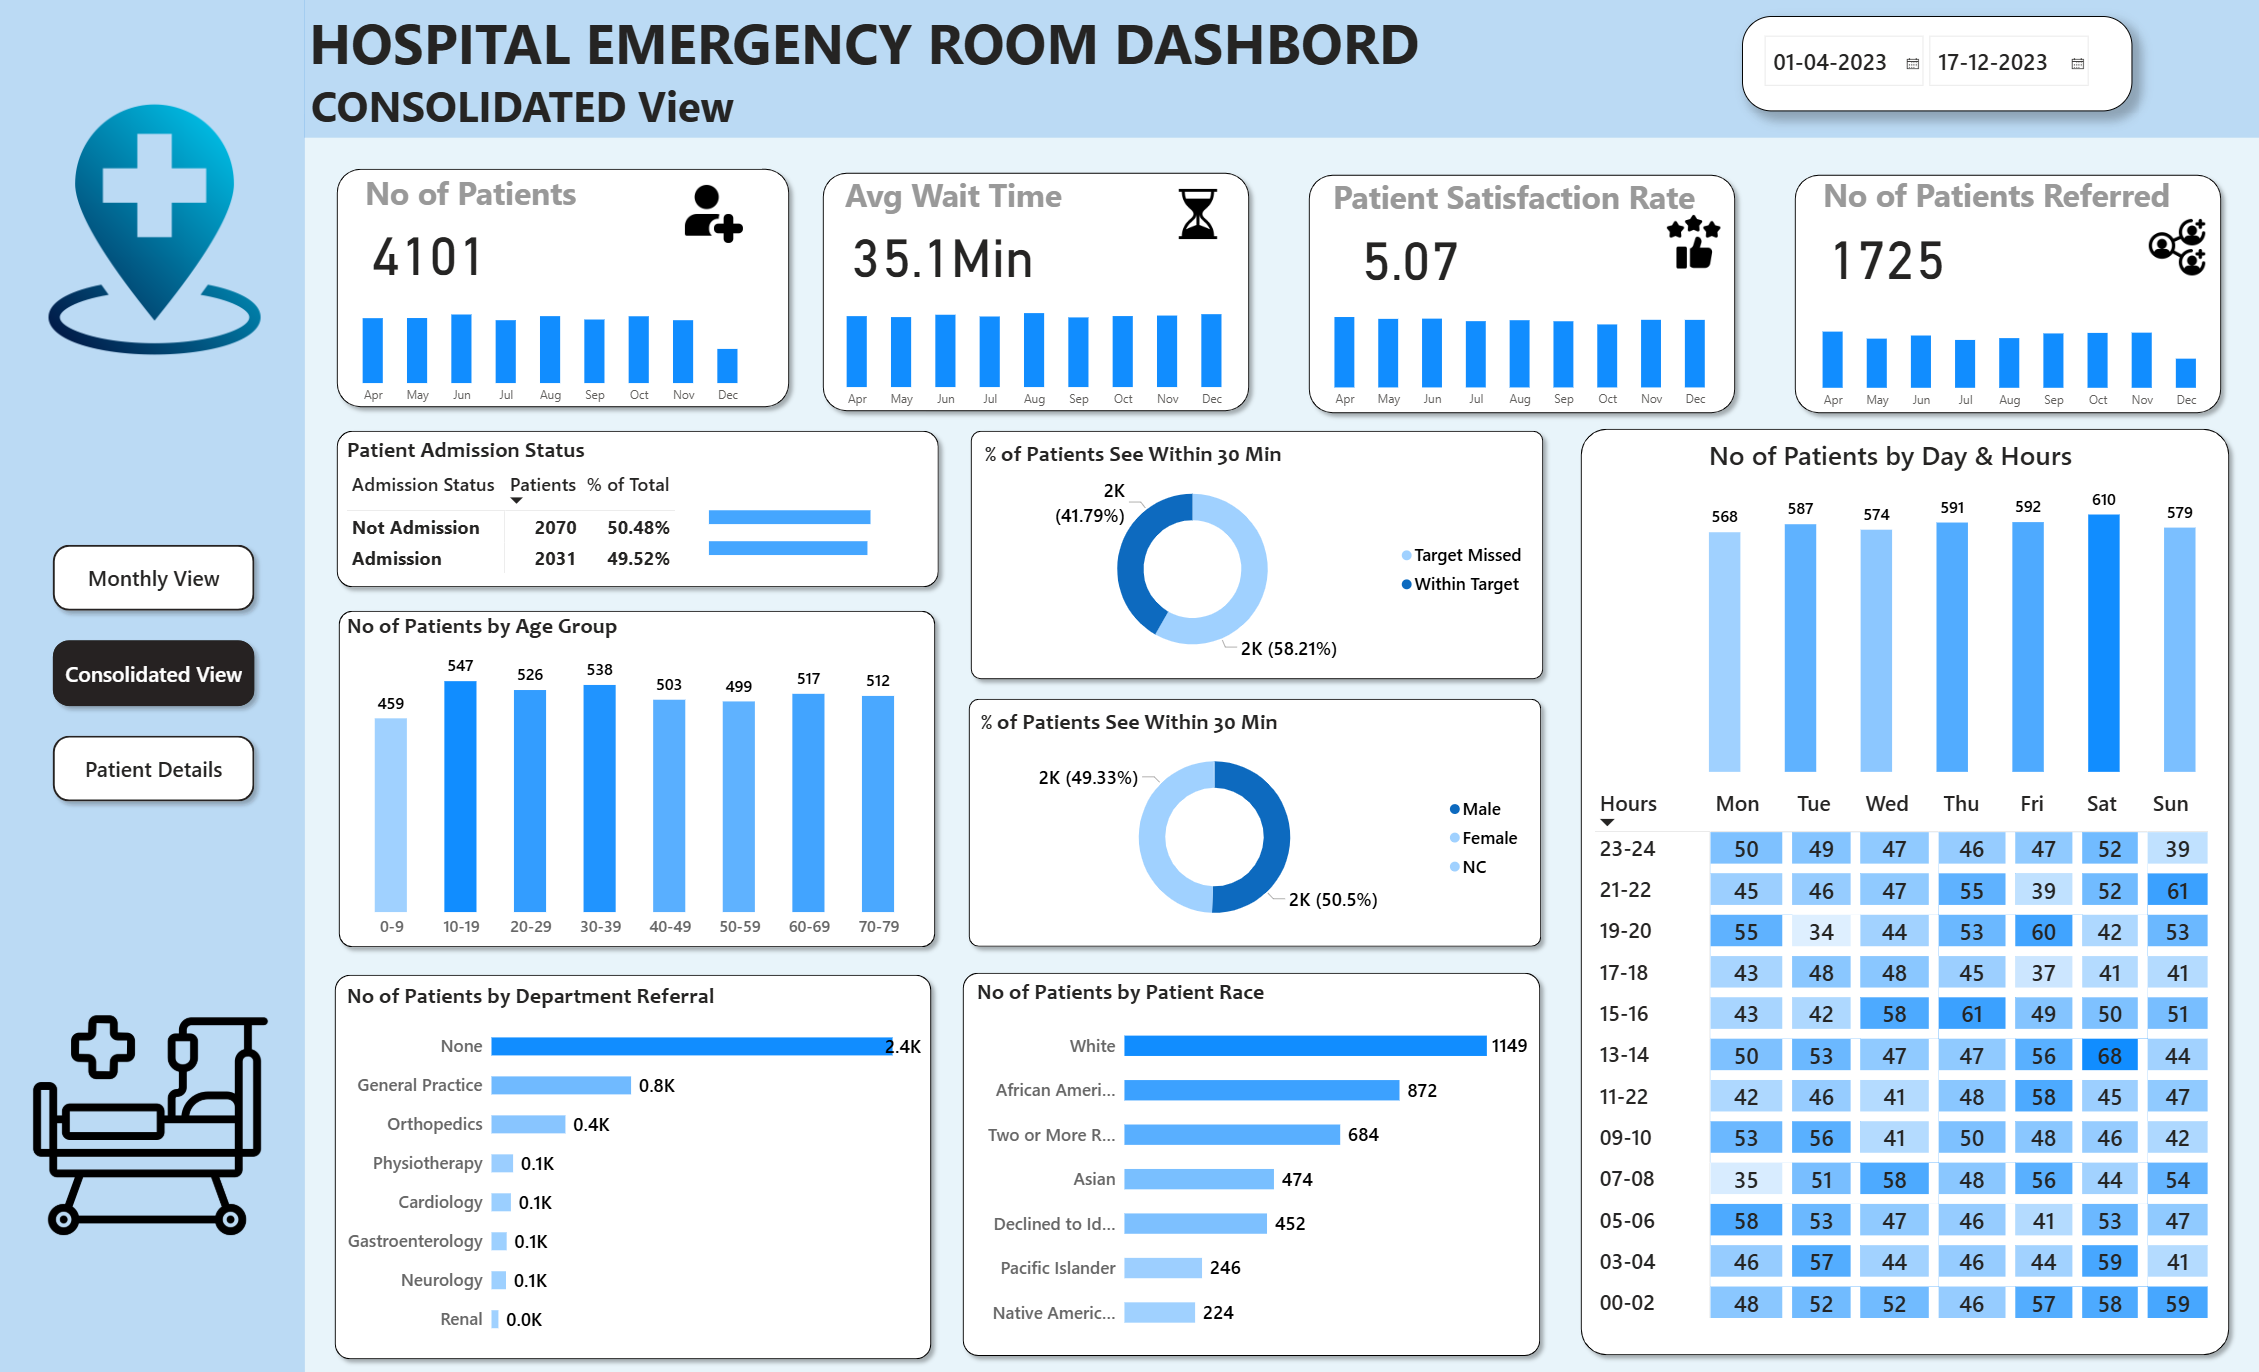

The page's visual inventory and layout, read from the dashboard file:
{"tool":"powerbi","page":{"name":"Consolidated View","canvas":[2300,1400],"ordinal":1},"visuals":[{"type":"shape","box":[0,0,310,1400],"z":0},{"type":"shape","box":[309.1,0,1992.9,140],"z":1000},{"type":"textbox","box":[309.9,0,1990.1,92],"z":2000},{"type":"textbox","box":[311.1,73.2,463.7,81.3],"z":3000},{"type":"slicer","fields":{"Values":["Date.Date"]},"box":[1772.2,16.9,397.1,96.8],"z":4000},{"type":"shape","box":[1816.7,168.5,451.5,260.3],"z":5000},{"type":"textbox","box":[1847.9,170.9,373.3,63.1],"z":6000},{"type":"card","fields":{"Values":["Hospital ER_Data.No of Patients Refsrred"]},"box":[1830.3,217.9,176.7,79.9],"z":7000},{"type":"columnChart","fields":{"Y":["Hospital ER_Data.No of Patients Refsrred"],"Category":["Date.Month Name"]},"box":[1830,300,426.7,123.3],"z":9000},{"type":"shape","box":[1321.6,169.7,451.5,260.3],"z":11000},{"type":"textbox","box":[1350.9,171.9,421.3,82.3],"z":12000},{"type":"card","fields":{"Values":["Hospital ER_Data.Satisfaction Score"]},"box":[1335.3,218.2,194.5,81.5],"z":13000},{"type":"columnChart","fields":{"Y":["Hospital ER_Data.Satisfaction Score"],"Category":["Date.Month Name"]},"box":[1335,298.3,423.3,125],"z":14000},{"type":"shape","box":[827.7,166,451.5,260.3],"z":15000},{"type":"shape","box":[333.8,428.5,630,177],"z":16000},{"type":"textbox","box":[853.3,170,285,65],"z":17000},{"type":"card","fields":{"Values":["Hospital ER_Data.Avg Wait Time"]},"box":[841.1,215.5,233.6,80.5],"z":18000},{"type":"columnChart","fields":{"Y":["Avg(Hospital ER_Data.Patient Waittime)"],"Category":["Date.Month Name"]},"box":[838.3,296.7,428.3,126.7],"z":19000},{"type":"pivotTable","title":"Patient Admission Status","fields":{"Rows":["Hospital ER_Data.Admission Status"],"Values":["Hospital ER_Data.No of Patients1","Divide(Hospital ER_Data.No of Patients, ScopedEval(Hospital ER_Data.No of Patients, []))"]},"box":[348.6,443.1,593.2,145.3],"z":20000},{"type":"barChart","fields":{"Category":["Hospital ER_Data.Admission Status"],"Y":["Hospital ER_Data.No of Patients"]},"box":[715.8,490.1,248.1,97.6],"z":21000},{"type":"shape","box":[333.5,162.7,477.9,260.3],"z":22000},{"type":"textbox","box":[366,168.7,285.6,64.9],"z":23000},{"type":"card","fields":{"Values":["Hospital ER_Data.No of Patients"]},"box":[347.4,213.1,176.7,79.9],"z":24000},{"type":"columnChart","fields":{"Y":["Hospital ER_Data.No of Patients"],"Category":["Date.Month Name"]},"box":[345,293.3,428.3,126.7],"z":25000},{"type":"shape","box":[336.6,612.1,624.3,360],"z":26000},{"type":"clusteredColumnChart","fields":{"Category":["Hospital ER_Data.Age Group"],"Y":["Hospital ER_Data.No of Patients"]},"box":[348.6,623.2,596.7,341.1],"z":27000},{"type":"shape","box":[332.2,982.2,624.4,408.9],"z":28000},{"type":"clusteredBarChart","fields":{"Category":["Hospital ER_Data.Department Referral"],"Y":["Hospital ER_Data.No of Patients"]},"box":[348,998,594,374],"z":29000},{"type":"shape","box":[978.2,429.1,599.9,270.5],"z":30000},{"type":"donutChart","title":"% of Patients See Within 30 Min","fields":{"Category":["Hospital ER_Data.Waittime Status"],"Y":["Hospital ER_Data.No of Patients"]},"box":[996.7,448.3,565,235],"z":31000},{"type":"shape","box":[975.8,701.7,600,270],"z":32000},{"type":"donutChart","title":"% of Patients See Within 30 Min","fields":{"Y":["Hospital ER_Data.No of Patients"],"Category":["Hospital ER_Data.Patient Gender"]},"box":[992.5,720,565,235],"z":33000},{"type":"shape","box":[970,980,605,407.5],"z":34000},{"type":"clusteredBarChart","fields":{"Y":["Hospital ER_Data.No of Patients"],"Category":["Hospital ER_Data.Patient Race"]},"box":[987.5,995,570,375],"z":35000},{"type":"shape","box":[1598.4,427.1,677.2,959.9],"z":36000},{"type":"pivotTable","fields":{"Rows":["Hospital ER_Data.Waittime Interval"],"Columns":["Date.Day Name"],"Values":["Hospital ER_Data.No of Patients"]},"box":[1615.7,794.3,641.4,578.6],"z":37000},{"type":"columnChart","title":"No of Patients by Day & Hours","fields":{"Category":["Date.Day Name"],"Y":["Hospital ER_Data.No of Patients"]},"box":[1732.5,442.5,507.5,347.5],"z":38000},{"type":"image","box":[1185.6,187.1,65.1,61],"z":39000},{"type":"image","box":[690.9,183.6,69.1,69.1],"z":40000},{"type":"image","box":[2170,217.5,87.5,67.5],"z":41000},{"type":"image","box":[1686.7,213.3,72.2,64.4],"z":42000},{"type":"image","box":[24.8,97.4,265.5,271.2],"z":43000},{"type":"pageNavigator","box":[43.9,544.3,223.5,280.8],"z":43001},{"type":"image","box":[21,995.1,265.5,299.9],"z":43002}]}

Visuals, with their boxes in screenshot pixels (x1, y1, x2, y2), scaled from the page's 2300x1400 canvas onto the 2259x1372 screenshot:
shape: <region>0, 0, 304, 1371</region>
shape: <region>304, 0, 2258, 137</region>
textbox: <region>304, 0, 2258, 90</region>
textbox: <region>306, 72, 761, 151</region>
slicer - Date.Date: <region>1741, 17, 2131, 111</region>
shape: <region>1784, 165, 2228, 420</region>
textbox: <region>1815, 167, 2182, 229</region>
card - Hospital ER_Data.No of Patients Refsrred: <region>1798, 214, 1971, 292</region>
columnChart - Hospital ER_Data.No of Patients Refsrred x Date.Month Name: <region>1797, 294, 2216, 415</region>
shape: <region>1298, 166, 1741, 421</region>
textbox: <region>1327, 168, 1741, 249</region>
card - Hospital ER_Data.Satisfaction Score: <region>1311, 214, 1503, 294</region>
columnChart - Hospital ER_Data.Satisfaction Score x Date.Month Name: <region>1311, 292, 1727, 415</region>
shape: <region>813, 163, 1256, 418</region>
shape: <region>328, 420, 947, 593</region>
textbox: <region>838, 167, 1118, 230</region>
card - Hospital ER_Data.Avg Wait Time: <region>826, 211, 1056, 290</region>
columnChart - Avg(Hospital ER_Data.Patient Waittime) x Date.Month Name: <region>823, 291, 1244, 415</region>
"Patient Admission Status" pivotTable: <region>342, 434, 925, 577</region>
barChart - Hospital ER_Data.Admission Status x Hospital ER_Data.No of Patients: <region>703, 480, 947, 576</region>
shape: <region>328, 159, 797, 415</region>
textbox: <region>359, 165, 640, 229</region>
card - Hospital ER_Data.No of Patients: <region>341, 209, 515, 287</region>
columnChart - Hospital ER_Data.No of Patients x Date.Month Name: <region>339, 287, 760, 412</region>
shape: <region>331, 600, 944, 953</region>
clusteredColumnChart - Hospital ER_Data.Age Group x Hospital ER_Data.No of Patients: <region>342, 611, 928, 945</region>
shape: <region>326, 963, 940, 1363</region>
clusteredBarChart - Hospital ER_Data.Department Referral x Hospital ER_Data.No of Patients: <region>342, 978, 925, 1345</region>
shape: <region>961, 421, 1550, 686</region>
"% of Patients See Within 30 Min" donutChart: <region>979, 439, 1534, 670</region>
shape: <region>958, 688, 1548, 952</region>
"% of Patients See Within 30 Min" donutChart: <region>975, 706, 1530, 936</region>
shape: <region>953, 960, 1547, 1360</region>
clusteredBarChart - Hospital ER_Data.No of Patients x Hospital ER_Data.Patient Race: <region>970, 975, 1530, 1343</region>
shape: <region>1570, 419, 2235, 1359</region>
pivotTable - Hospital ER_Data.Waittime Interval x Date.Day Name: <region>1587, 778, 2217, 1345</region>
"No of Patients by Day & Hours" columnChart: <region>1702, 434, 2200, 774</region>
image: <region>1164, 183, 1228, 243</region>
image: <region>679, 180, 746, 248</region>
image: <region>2131, 213, 2217, 279</region>
image: <region>1657, 209, 1728, 272</region>
image: <region>24, 95, 285, 361</region>
pageNavigator: <region>43, 533, 263, 809</region>
image: <region>21, 975, 281, 1269</region>
